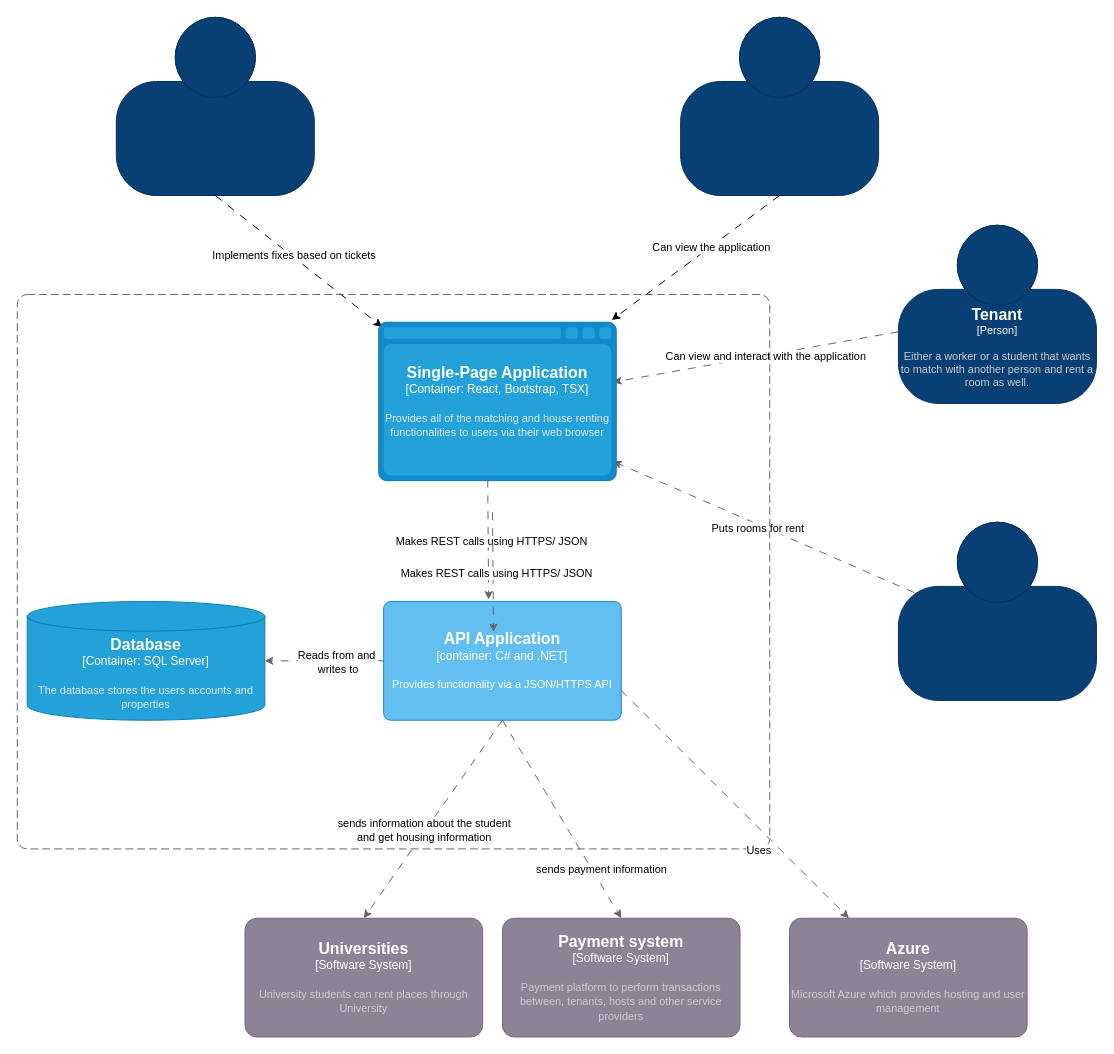
Some shapes in this 1114 by 1054 pixel diagram are drawn without their labels. The box of each missing label's shape, as (x1, y1, x2, y2) in pixels:
Admin [Person] performs fixes in the system when needed: (115, 16, 314, 196)
Guest [Person] Guest user who only have read access to the MyRoomPal application: (680, 16, 879, 196)
My Room Pal System [My Room Pal]: (16, 294, 770, 849)
Property Owner [Person] A user that is able to rent rooms to students or workers: (897, 521, 1096, 700)
